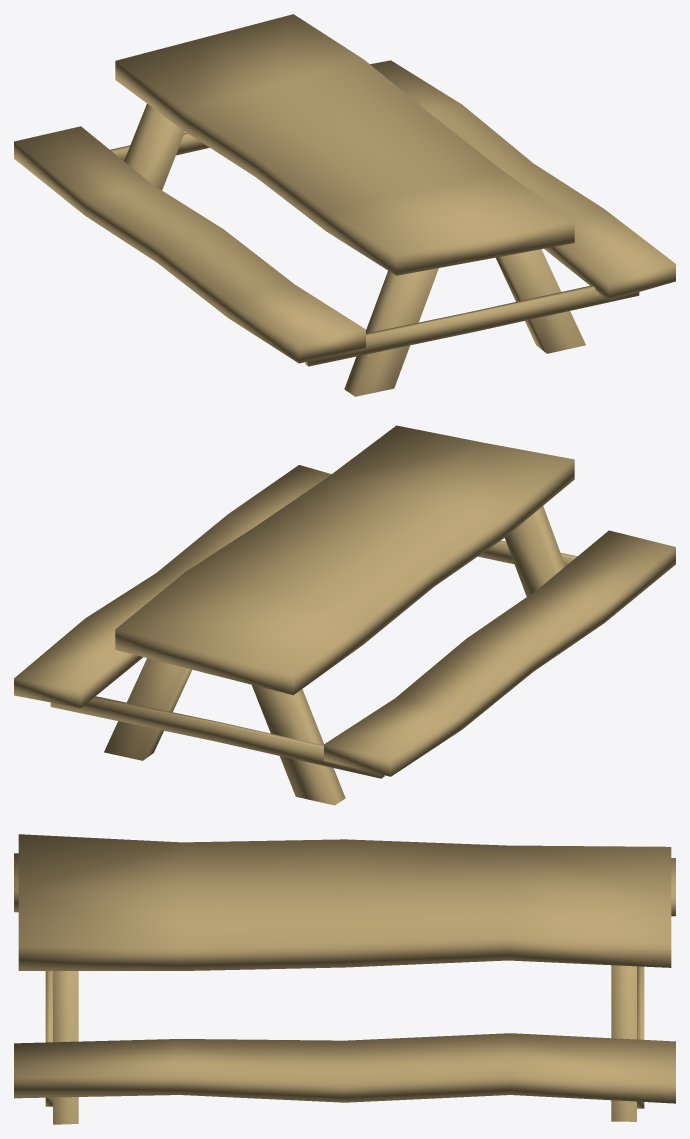
Rendered from Beer_Bench_2.fbx.
3 views of the same model, one above another, from view 1: azimuth 30°, elevation 25°; view 2: azimuth 150°, elevation 25°; view 3: azimuth 270°, elevation 25° (orthographic). The views are drawn at different scales.
Parts seen in each view (by area): view 1: BENCH; view 2: BENCH; view 3: BENCH.
Boxes of the visible parts, left/top/right/bottom form: BENCH: left=14, top=14, right=675, bottom=396; BENCH: left=14, top=425, right=675, bottom=805; BENCH: left=14, top=834, right=675, bottom=1124.
Bounding box in the file's own units: 219 × 83.65 × 287.
